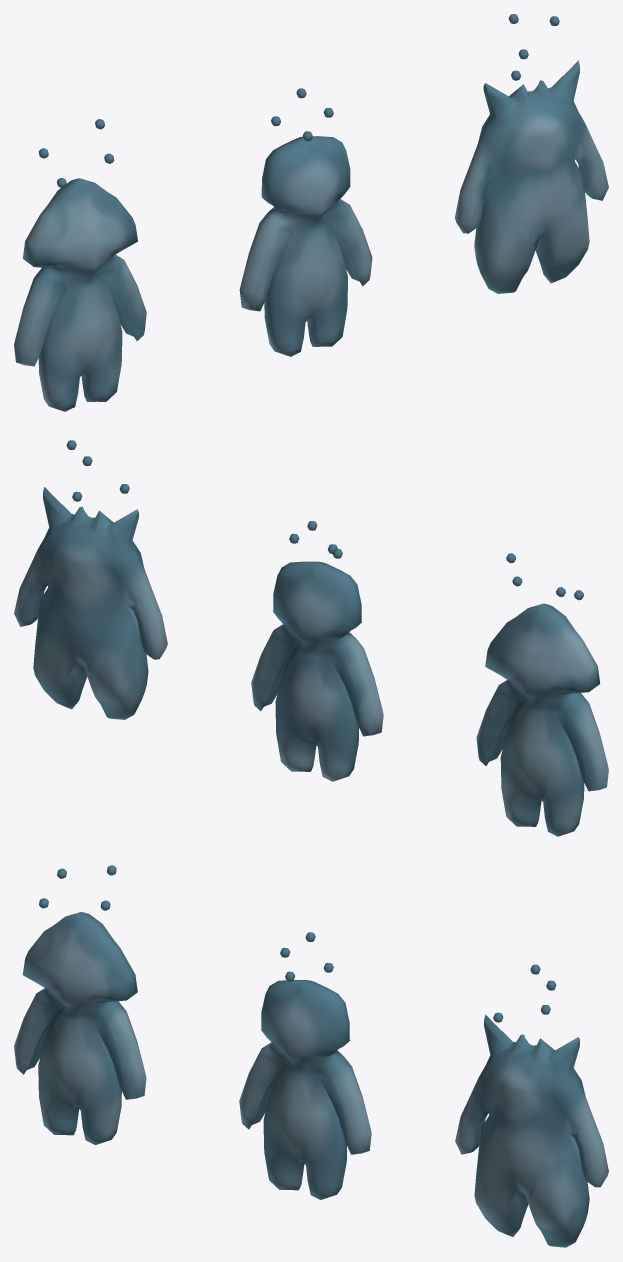
The model's file is ghost_puppets.fbx.
3 renders of one model, top to bottom at view 1: azimuth 30°, elevation 25°; view 2: azimuth 150°, elevation 25°; view 3: azimuth 330°, elevation 25°, orthographic.
Parts seen in each view (by area): view 1: Ghost_arrow; view 2: Ghost_arrow; view 3: Ghost_arrow.
Boxes of the visible parts, box(x1,y1,x2,y2) form: Ghost_arrow: box(14, 14, 608, 411); Ghost_arrow: box(14, 440, 608, 836); Ghost_arrow: box(14, 865, 608, 1247).
Bounding box in the file's own units: 172 × 76.16 × 20.16.
Materials: 1 (1 with a texture image).
